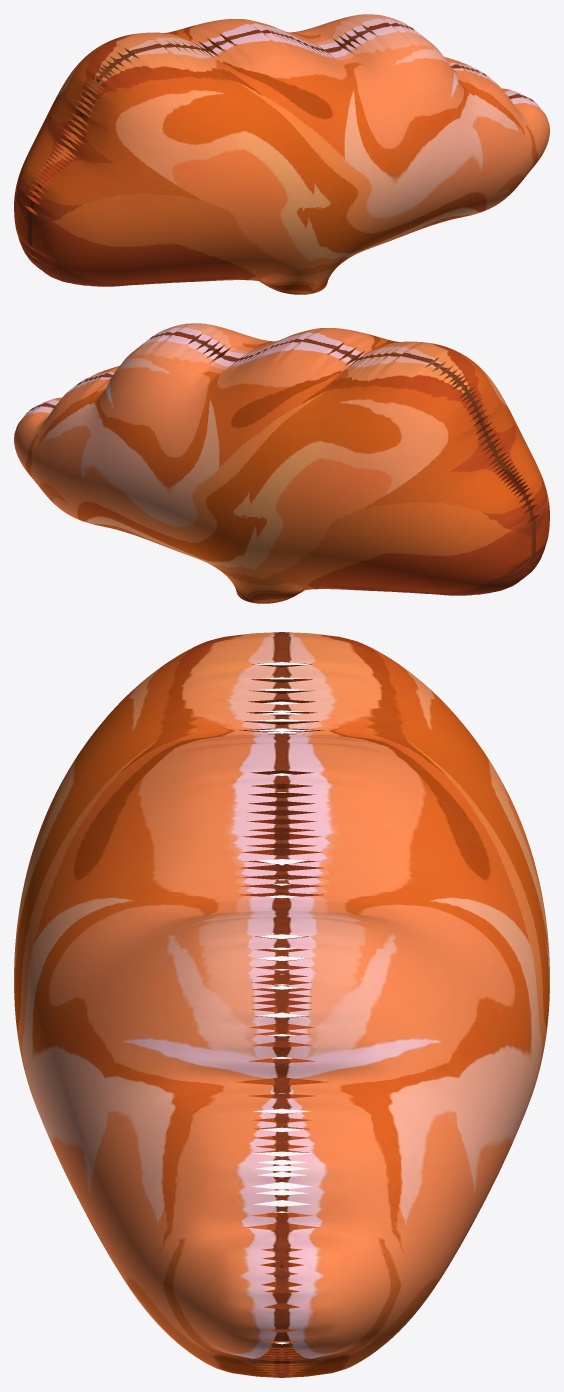
Rendered from swept_rock.glb.
3 renders of one model, top to bottom at view 1: azimuth 30°, elevation 25°; view 2: azimuth 150°, elevation 25°; view 3: azimuth 270°, elevation 25°, orthographic. The views are drawn at different scales.
Parts seen in each view (by area): view 1: swept_rock; view 2: swept_rock; view 3: swept_rock.
Part boxes in pixels (box(x1,y1,x2,y2)): swept_rock: box(14, 14, 549, 294); swept_rock: box(14, 323, 549, 603); swept_rock: box(14, 632, 549, 1377).
Bounding box in the file's own units: 0.989 × 0.4307 × 0.4804.
1 material, 1 textured.
